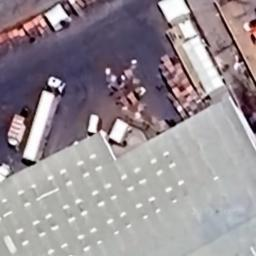truck: (22, 73, 66, 170)
